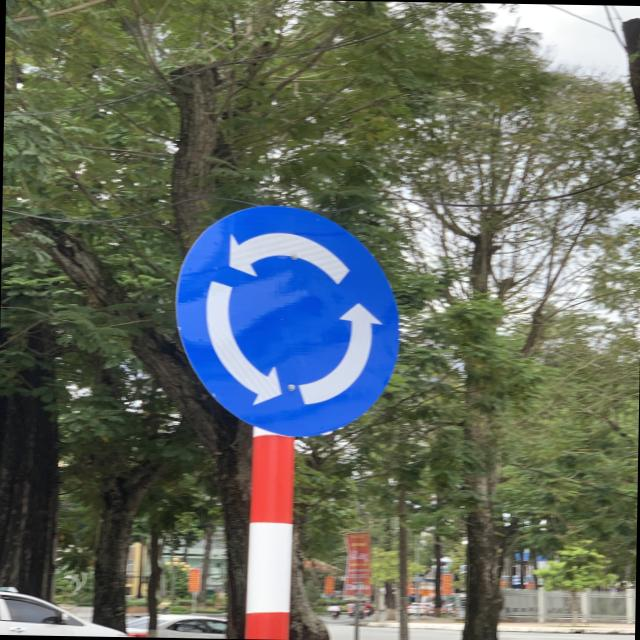Xe_Bus: (170, 202, 400, 438)
